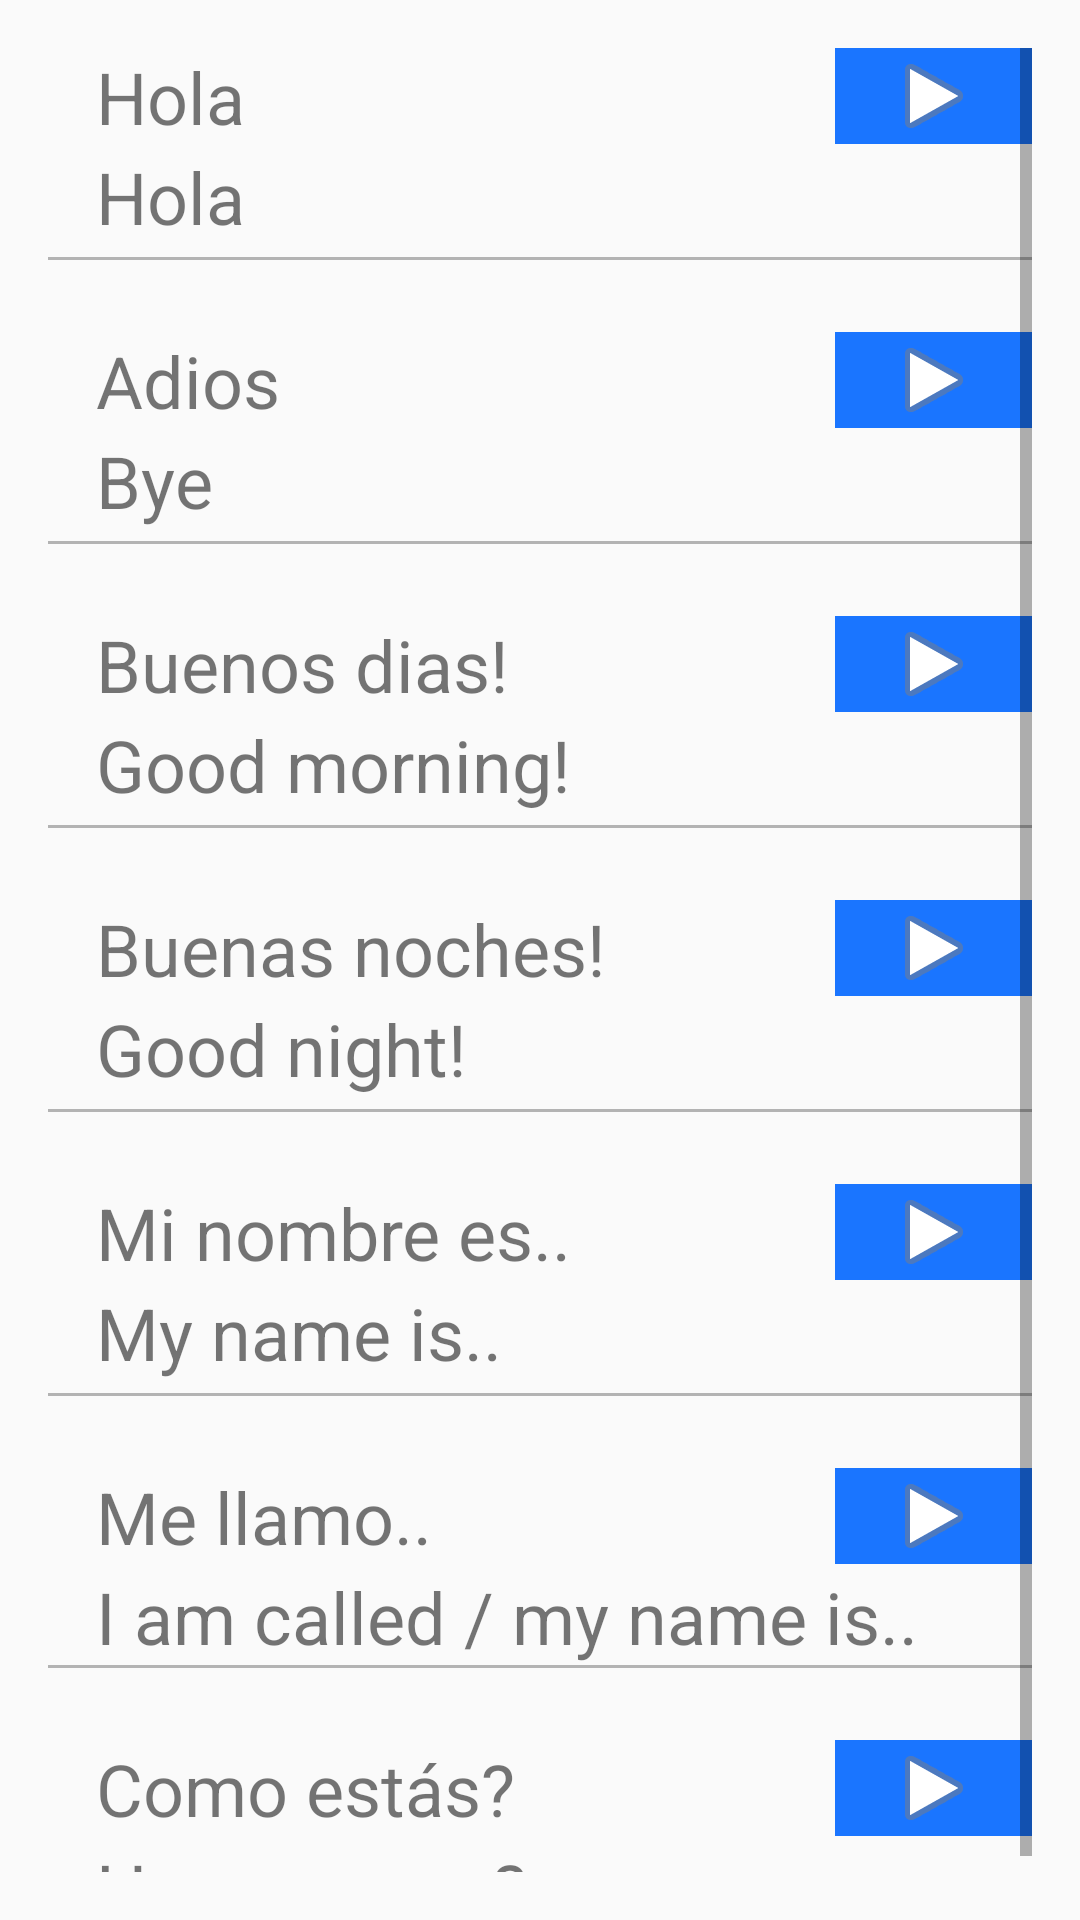

Screen size 1080px x 1920px. Icon name, then its center in pixels as [x,y]:
play: [933,96], [933,380], [933,664], [933,948], [933,1232], [933,1516], [933,1788]
